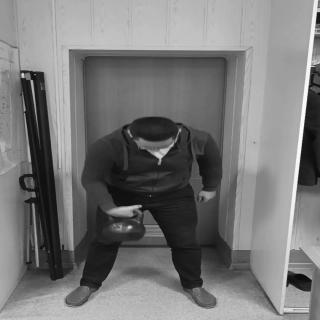kettlebell: (102, 206, 147, 242)
